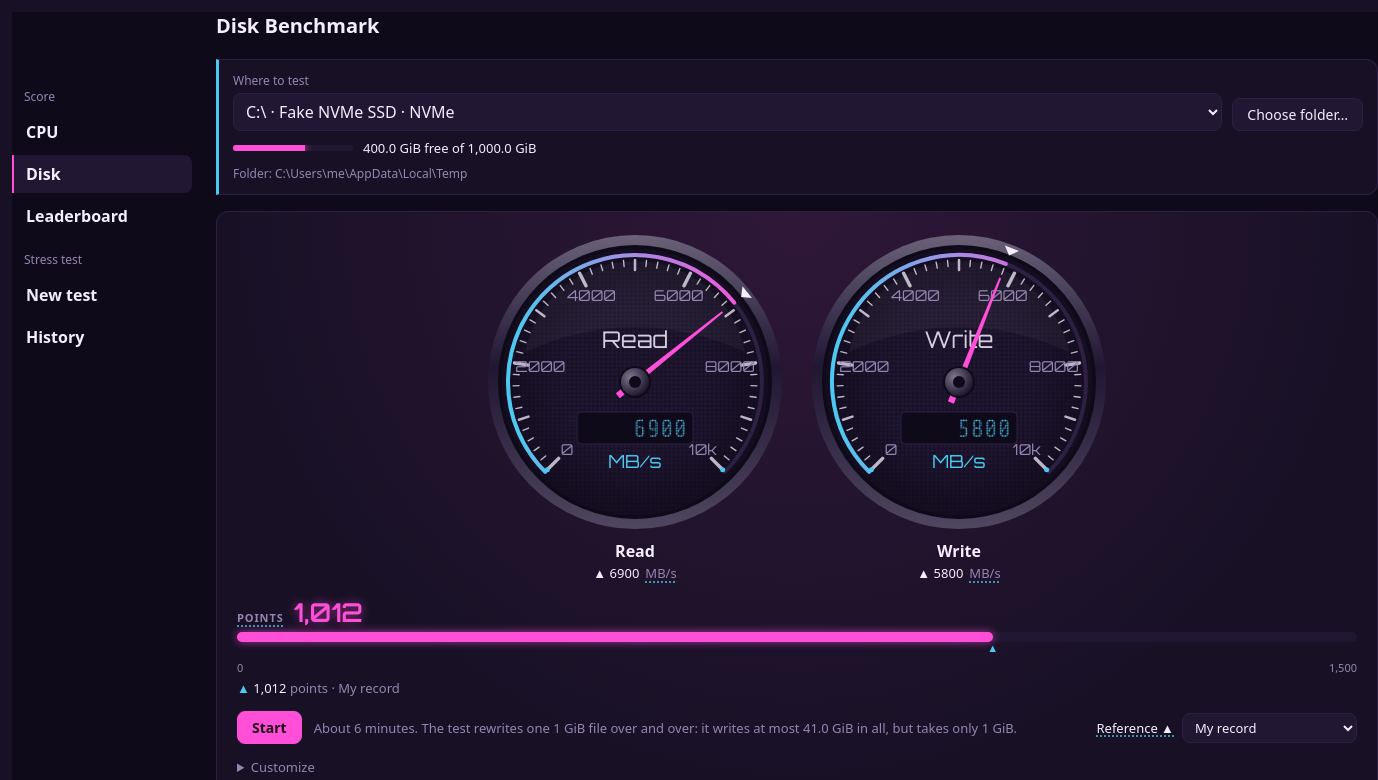
disk_table_reference_moves_the_points_mark
Expected: the heading "Disk Benchmark" is shown, left=216, top=12, right=380, bottom=39
Expected: the dropdown labelled "Where to test" is shown, left=233, top=93, right=1222, bottom=131
Select "Table model…" in the dropdown labelled "Reference ▲" at (1270, 728), box left=1182, top=712, right=1357, bottom=742
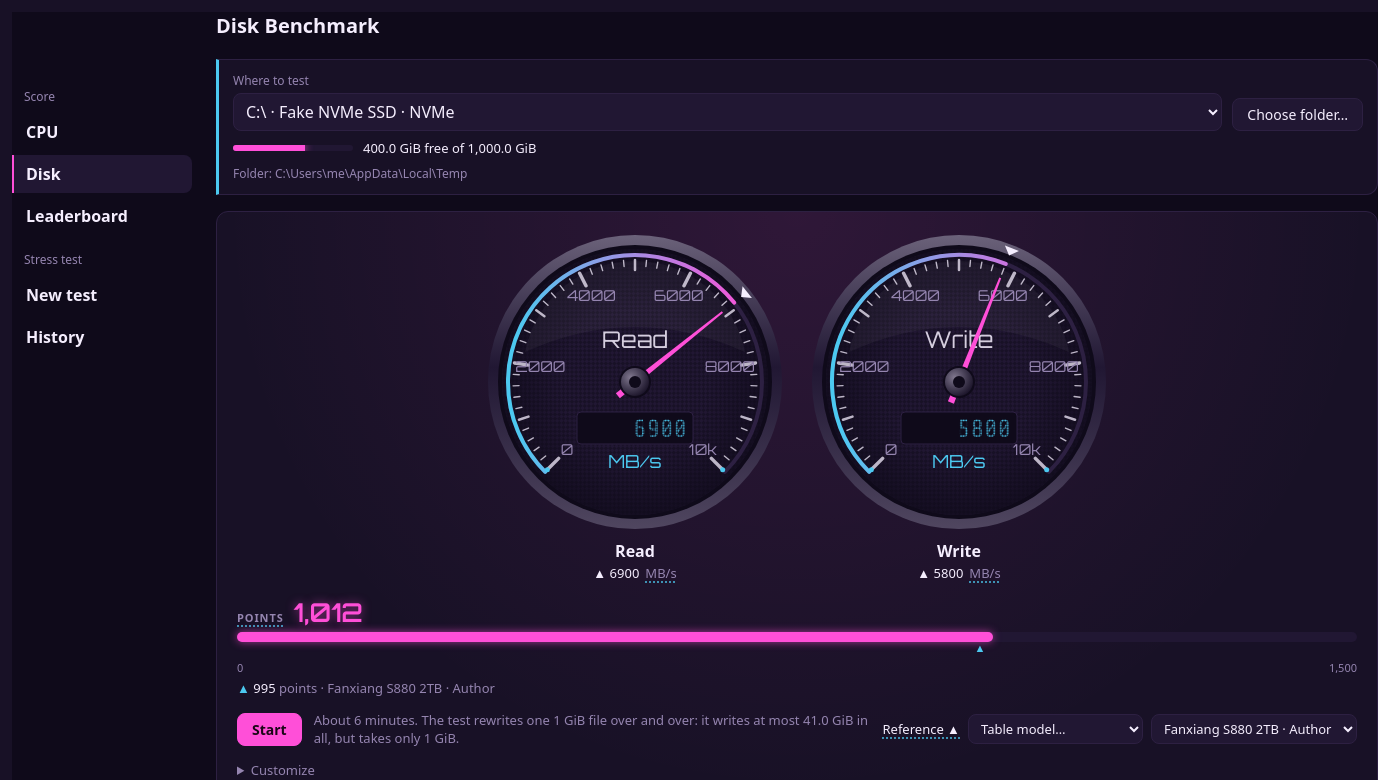
Expected: the picture named "Fanxiang S880 2TB · Author: 995" is shown, left=974, top=642, right=985, bottom=653
